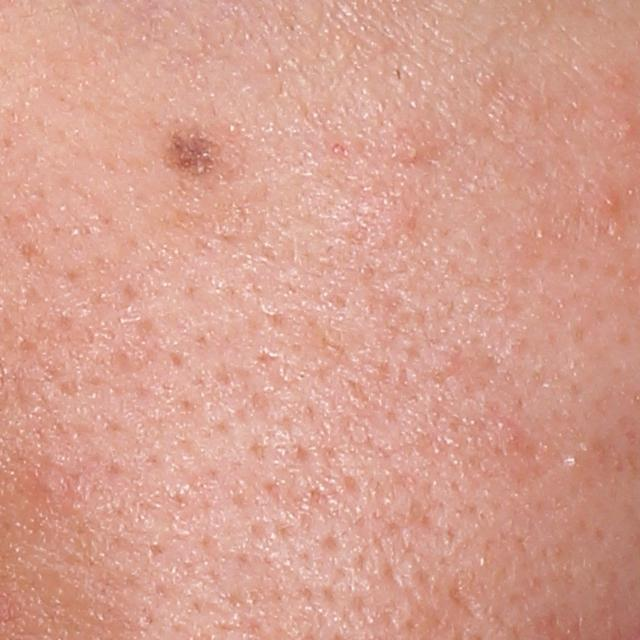comedo: (559, 450, 578, 471), (621, 119, 638, 136)
nevus: (159, 130, 231, 180)
